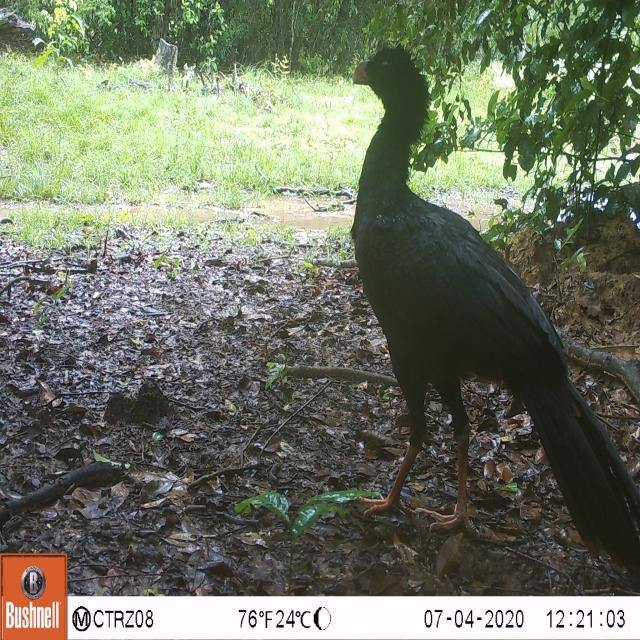Salvins Curassow: (339, 39, 640, 572)
